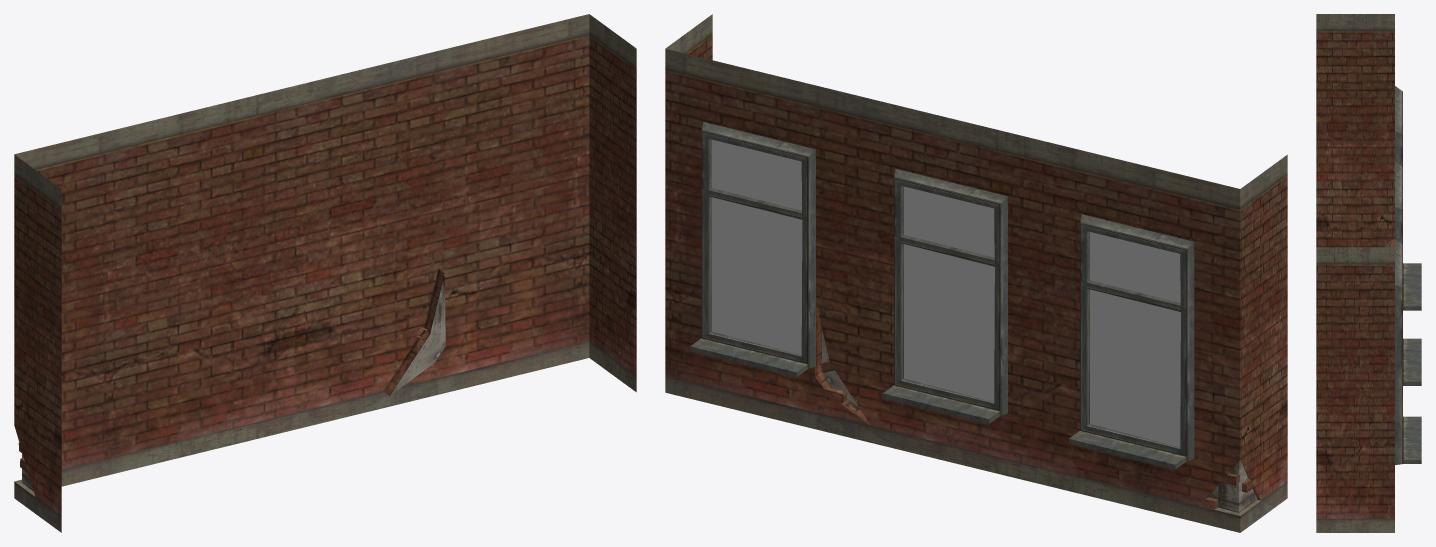
Rendered from Store_front_8_E.fbx.
3 renders of one model, left to right at view 1: azimuth 30°, elevation 25°; view 2: azimuth 150°, elevation 25°; view 3: azimuth 270°, elevation 25°, orthographic. The views are drawn at different scales.
Visible parts, largest first — view 1: Store_front_8_E; view 2: Store_front_8_E; view 3: Store_front_8_E.
Part boxes in pixels (x1,y1,x2,y2): Store_front_8_E: (14,14,636,532); Store_front_8_E: (665,14,1287,532); Store_front_8_E: (1316,14,1421,532).
Size of the model in its own units: 700 by 400 by 134.
